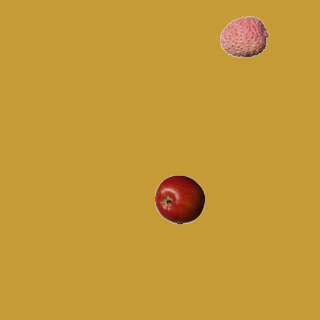Apple Braeburn: (154, 174, 204, 224)
Lychee: (219, 11, 269, 61)
